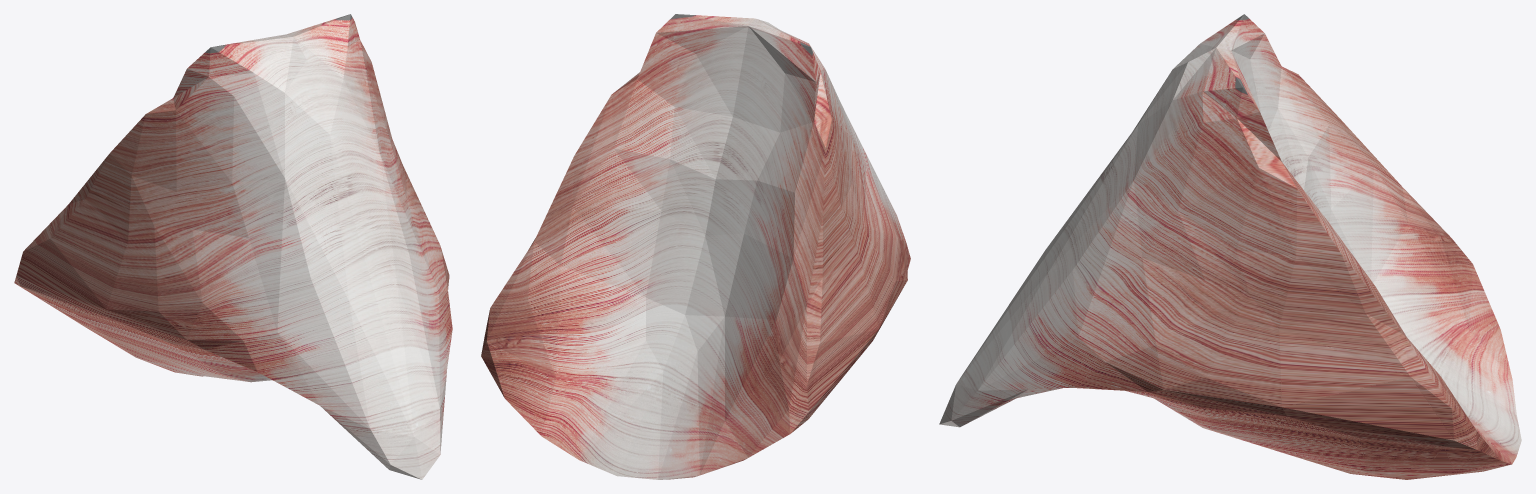
File: Lateral_Cartilague.obj
3 views of the same model, side by side, from view 1: azimuth 30°, elevation 25°; view 2: azimuth 150°, elevation 25°; view 3: azimuth 270°, elevation 25° (orthographic). The views are drawn at different scales.
Parts seen in each view (by area): view 1: Musculos_Cabeza_1:Lateral_Cartilage1; view 2: Musculos_Cabeza_1:Lateral_Cartilage1; view 3: Musculos_Cabeza_1:Lateral_Cartilage1.
Boxes of the visible parts, x1,y1,x2,y2 form: Musculos_Cabeza_1:Lateral_Cartilage1: [14, 14, 452, 479]; Musculos_Cabeza_1:Lateral_Cartilage1: [481, 14, 910, 479]; Musculos_Cabeza_1:Lateral_Cartilage1: [939, 14, 1521, 479].
Size of the model in its own units: 0.099 by 0.1106 by 0.1395.
Materials: 1 (1 with a texture image).
